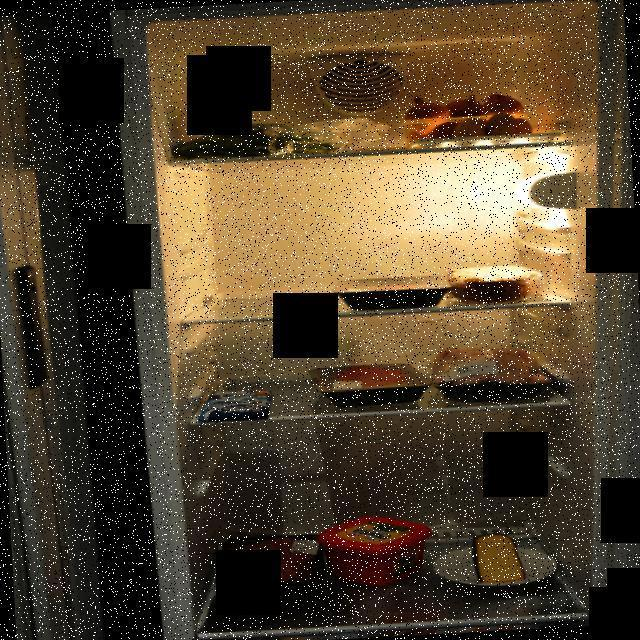beef: (304, 361, 434, 412)
bread: (446, 262, 544, 306)
butter: (313, 512, 436, 592)
cheese: (469, 531, 528, 584)
chicken: (428, 334, 562, 406)
chicken_breast: (334, 274, 454, 311)
chocolate: (195, 386, 276, 425)
eggs: (430, 111, 534, 149)
green_beans: (169, 118, 349, 164)
ground_beef: (211, 530, 331, 600)
heavy_cream: (208, 96, 252, 158)
onion: (403, 88, 526, 148)
